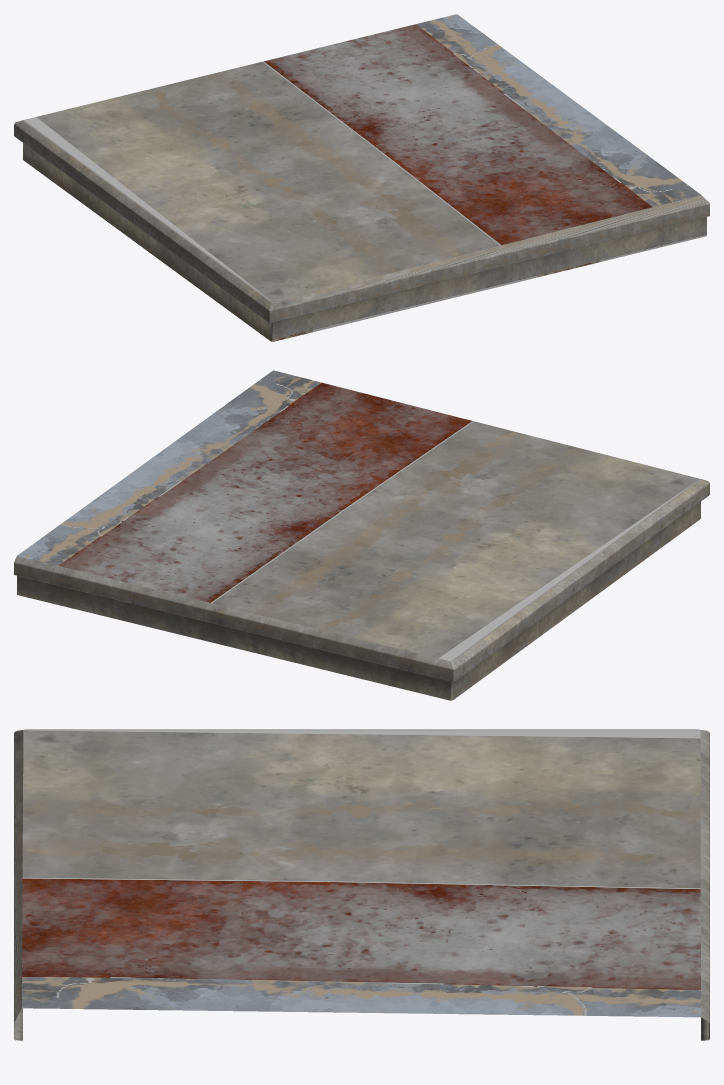
File: SM_Brickbuilding_Roof.fbx
3 renders of one model, top to bottom at view 1: azimuth 30°, elevation 25°; view 2: azimuth 150°, elevation 25°; view 3: azimuth 270°, elevation 25°, orthographic. The views are drawn at different scales.
Visible parts, largest first — view 1: Object018; view 2: Object018; view 3: Object018.
Part boxes in pixels (box(x1,y1,x2,y2)): Object018: box(14, 14, 709, 341); Object018: box(14, 370, 709, 700); Object018: box(14, 729, 709, 1040).
Bounding box in the file's own units: 1161 × 108 × 1171.
